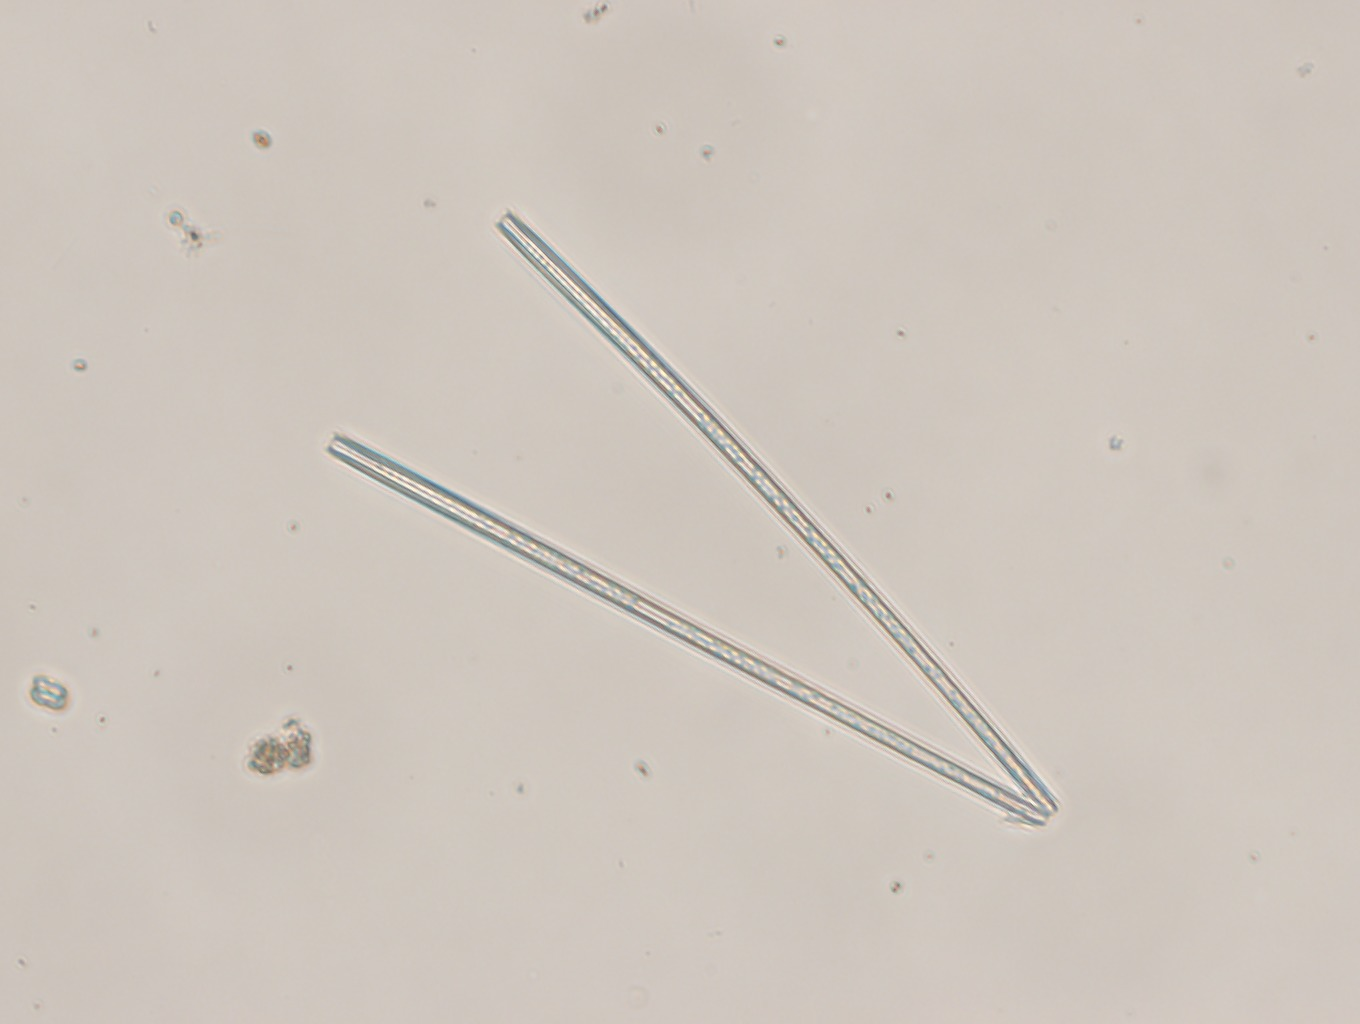thalassionema frauenfeldii: (319, 197, 1062, 834)
